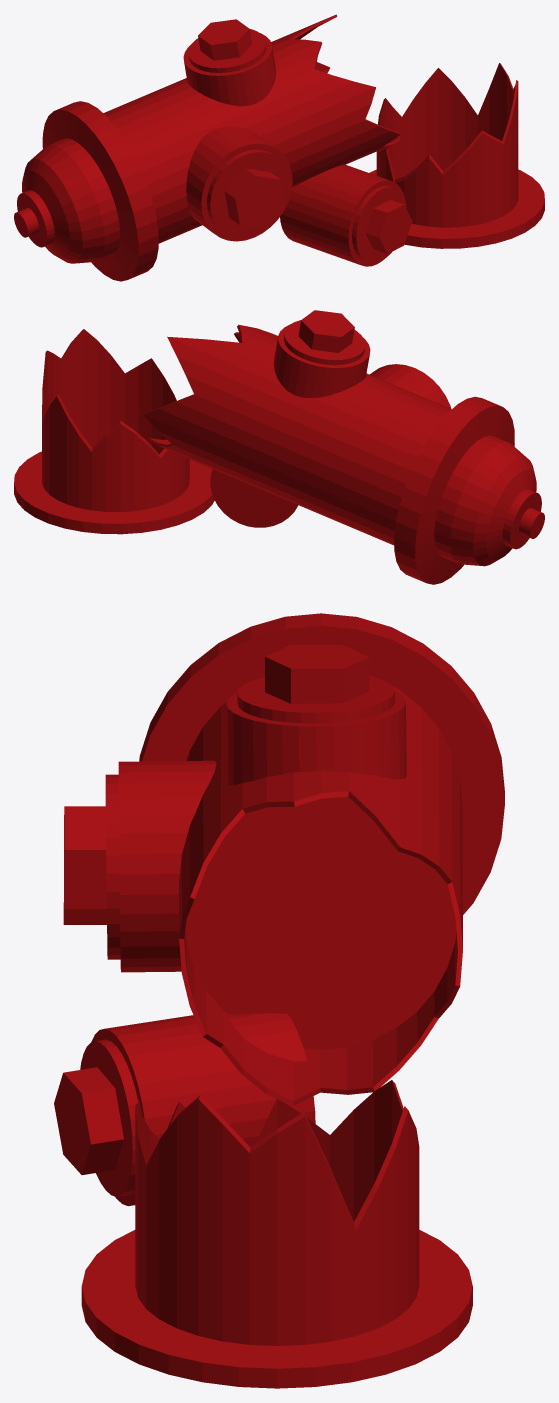
The model's file is FireHydrantBroken.fbx.
3 renders of one model, top to bottom at view 1: azimuth 30°, elevation 25°; view 2: azimuth 150°, elevation 25°; view 3: azimuth 270°, elevation 25°, orthographic. The views are drawn at different scales.
Parts seen in each view (by area): view 1: Cylinder; view 2: Cylinder; view 3: Cylinder.
Part boxes in pixels (<box>): Cylinder: <box>14,14,544,281</box>; Cylinder: <box>14,310,544,584</box>; Cylinder: <box>54,613,504,1388</box>.
Size of the model in its own units: 593 by 253 by 231.
